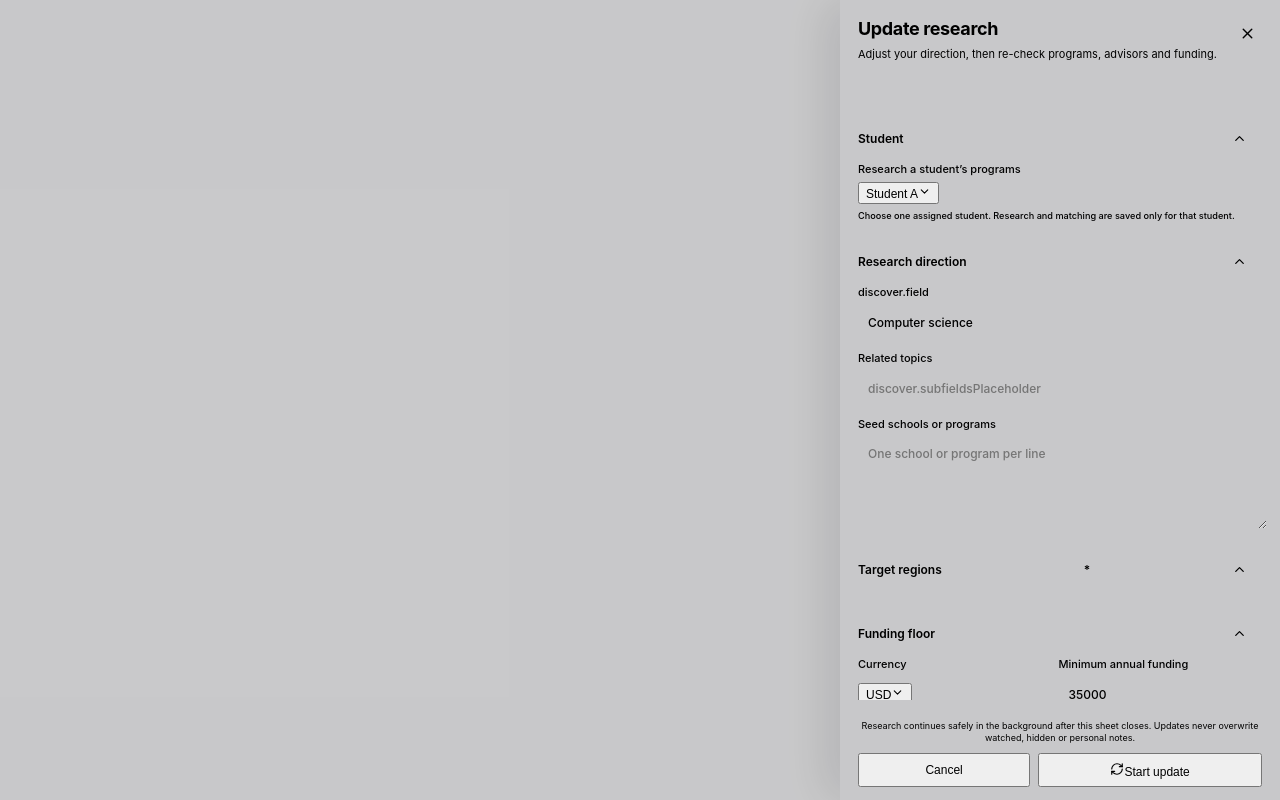
Scenario: DiscoverResearchSheet AI requirements › shows only the authorized team target choices supplied by the parent
Press the mouse on the button "Student A": (898, 193) [858, 182, 939, 204]
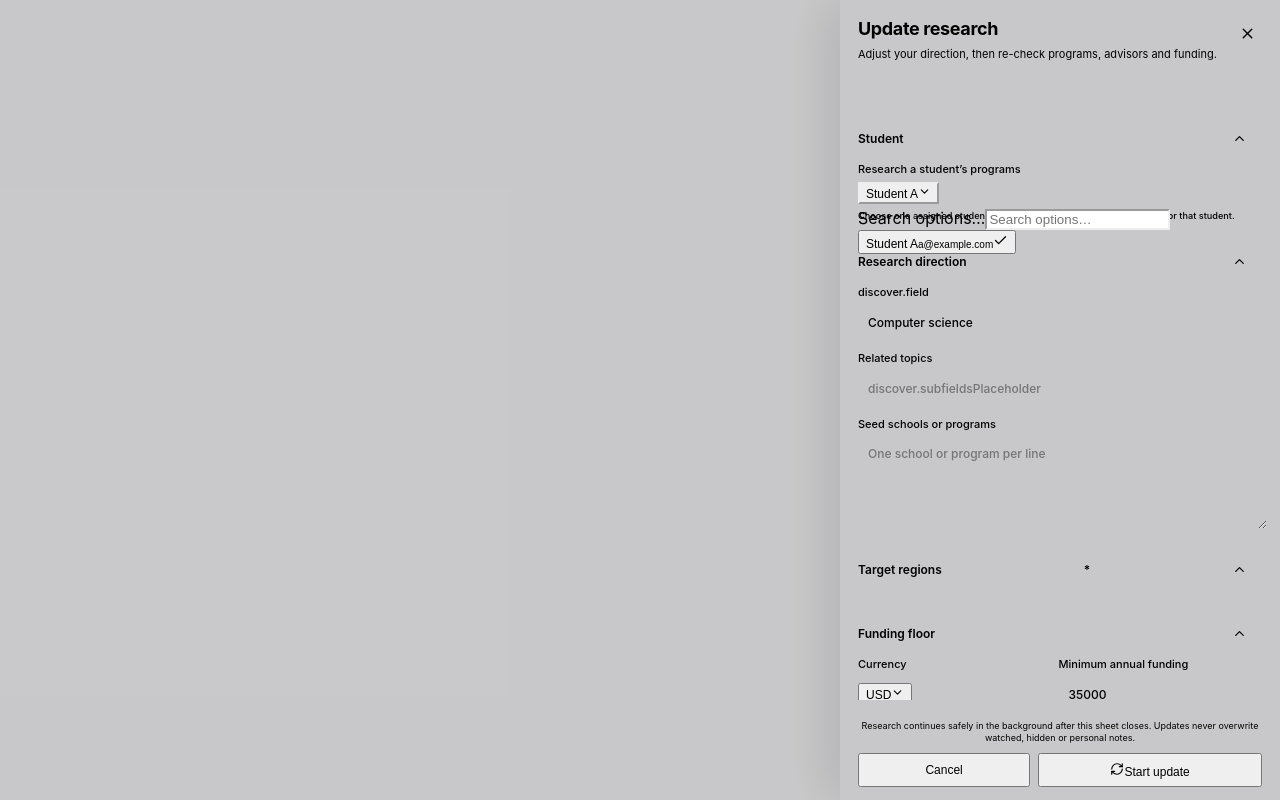
Expected: the option "Student Aa@example.com" is shown, [858, 230, 1016, 254]
